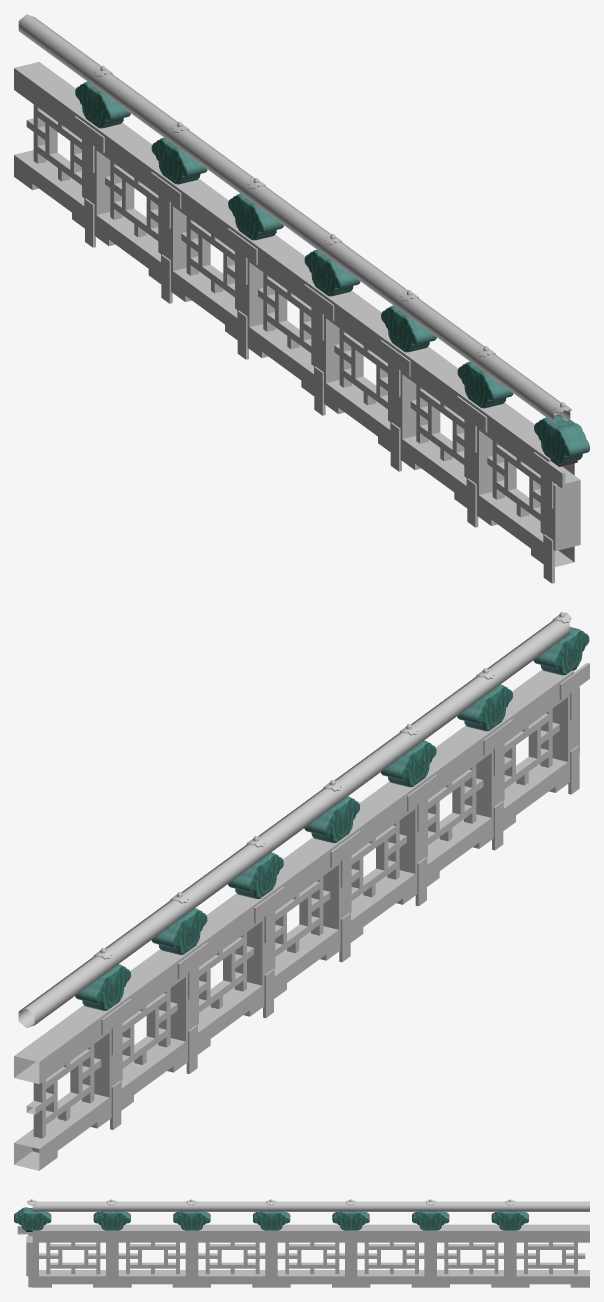
The model's file is SM_Handrail01F.fbx.
The picture shows the model from 3 angles, top to bottom: view 1: azimuth 30°, elevation 25°; view 2: azimuth 150°, elevation 25°; view 3: azimuth 270°, elevation 25°; orthographic projection. The views are drawn at different scales.
Parts seen in each view (by area): view 1: SM_Handrail01F; view 2: SM_Handrail01F; view 3: SM_Handrail01F.
Part boxes in pixels (x1,y1,x2,y2): SM_Handrail01F: (14, 14, 589, 583); SM_Handrail01F: (14, 612, 589, 1170); SM_Handrail01F: (14, 1199, 589, 1287).
Size of the model in its own units: 6.64 by 237 by 41.48.
